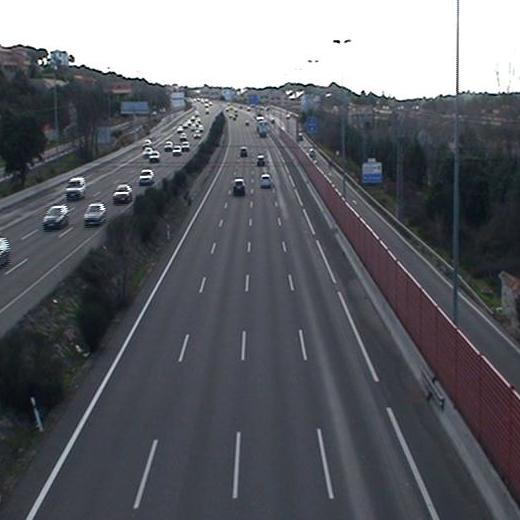car: (232, 177, 245, 196), (259, 174, 273, 188), (255, 153, 266, 166), (239, 147, 247, 159)
